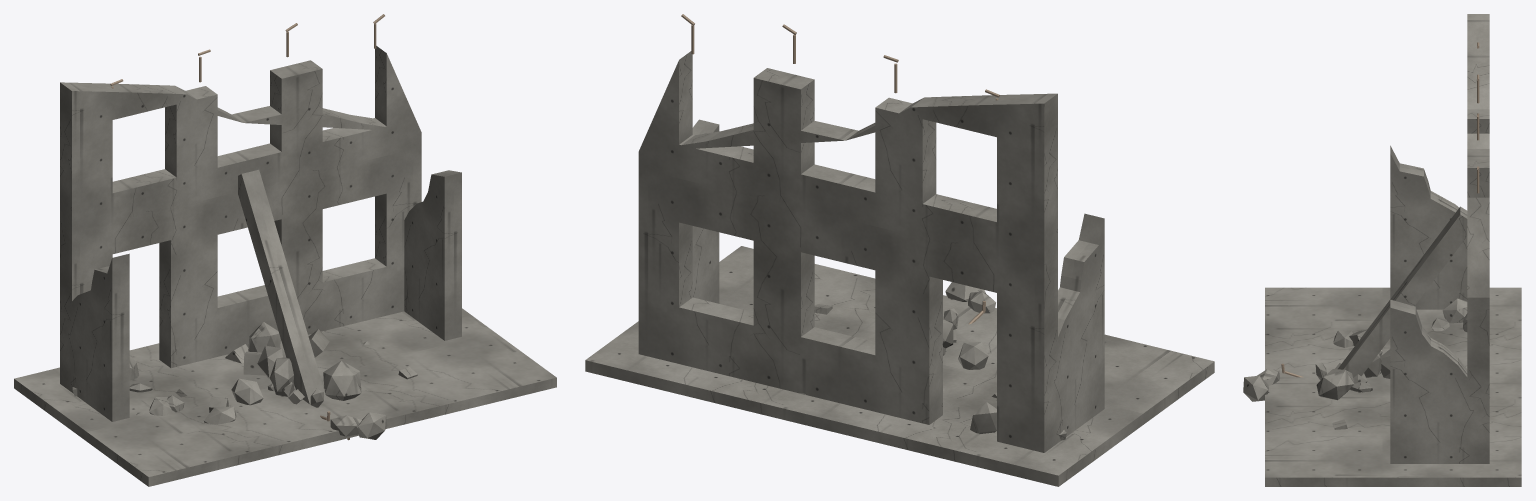
File: Rowhouse_Facade.fbx
3 views of the same model, side by side, from view 1: azimuth 30°, elevation 25°; view 2: azimuth 150°, elevation 25°; view 3: azimuth 270°, elevation 25° (orthographic). The views are drawn at different scales.
Parts seen in each view (by area): view 1: Rowhouse_Facade; view 2: Rowhouse_Facade; view 3: Rowhouse_Facade.
Boxes of the visible parts, x1,y1,x2,y2 form: Rowhouse_Facade: [14, 14, 556, 486]; Rowhouse_Facade: [585, 14, 1214, 486]; Rowhouse_Facade: [1243, 14, 1521, 486].
Size of the model in its own units: 7 by 5.3 by 4.34.
2 materials, 1 textured.
